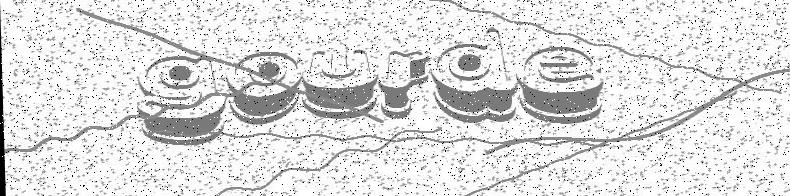d: (431, 28, 519, 119)
e: (517, 47, 604, 123)
g: (135, 56, 226, 145)
o: (226, 52, 303, 124)
r: (378, 51, 430, 118)
u: (301, 50, 379, 117)
